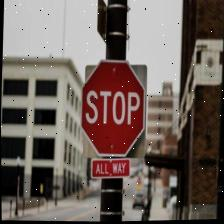Stop: (76, 57, 146, 159)
